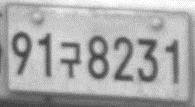1: (36, 31, 54, 78), (165, 39, 183, 86)
2: (113, 36, 135, 82)
3: (138, 38, 158, 83)
8: (86, 34, 109, 79)
9: (10, 30, 32, 75)
구: (59, 40, 82, 80)
